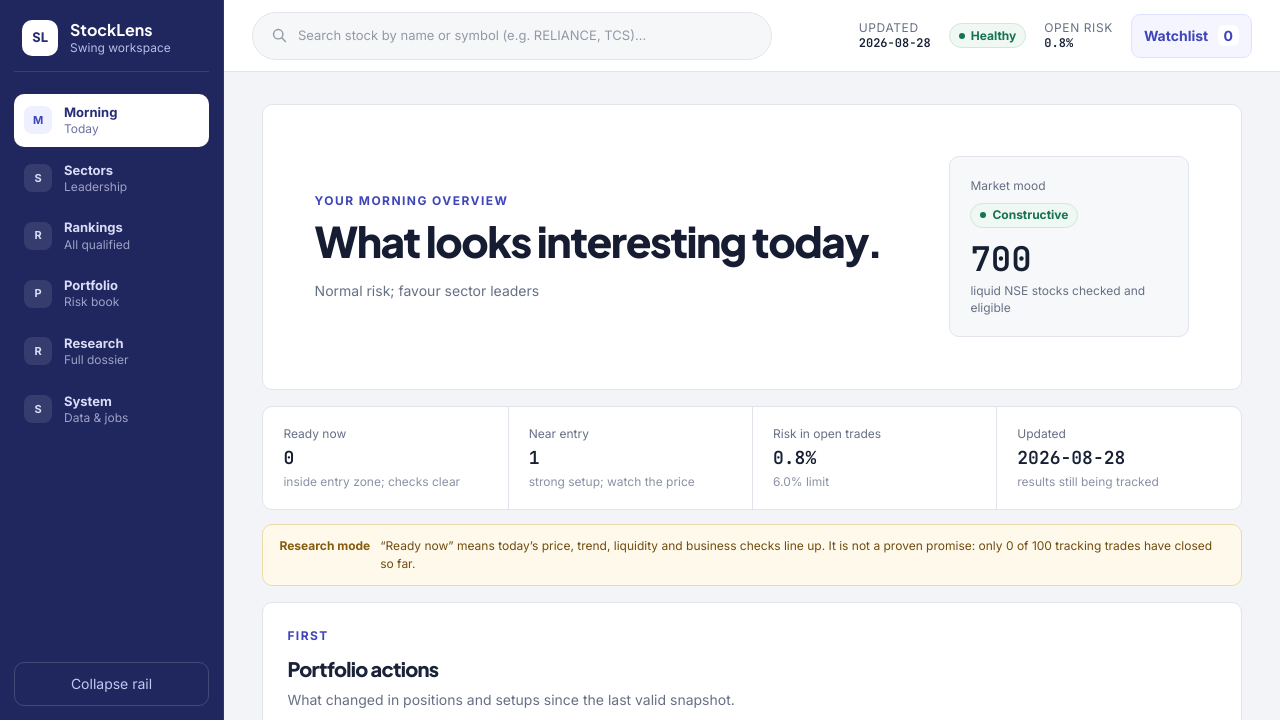
it: shows the automatic historical truth ledger in System
expect the heading "What looks interesting today." is shown: met, box [315, 218, 882, 264]
Step 1. Click the button "S System Data & jobs" → [112, 409], box [14, 383, 209, 435]
(page scrolled)
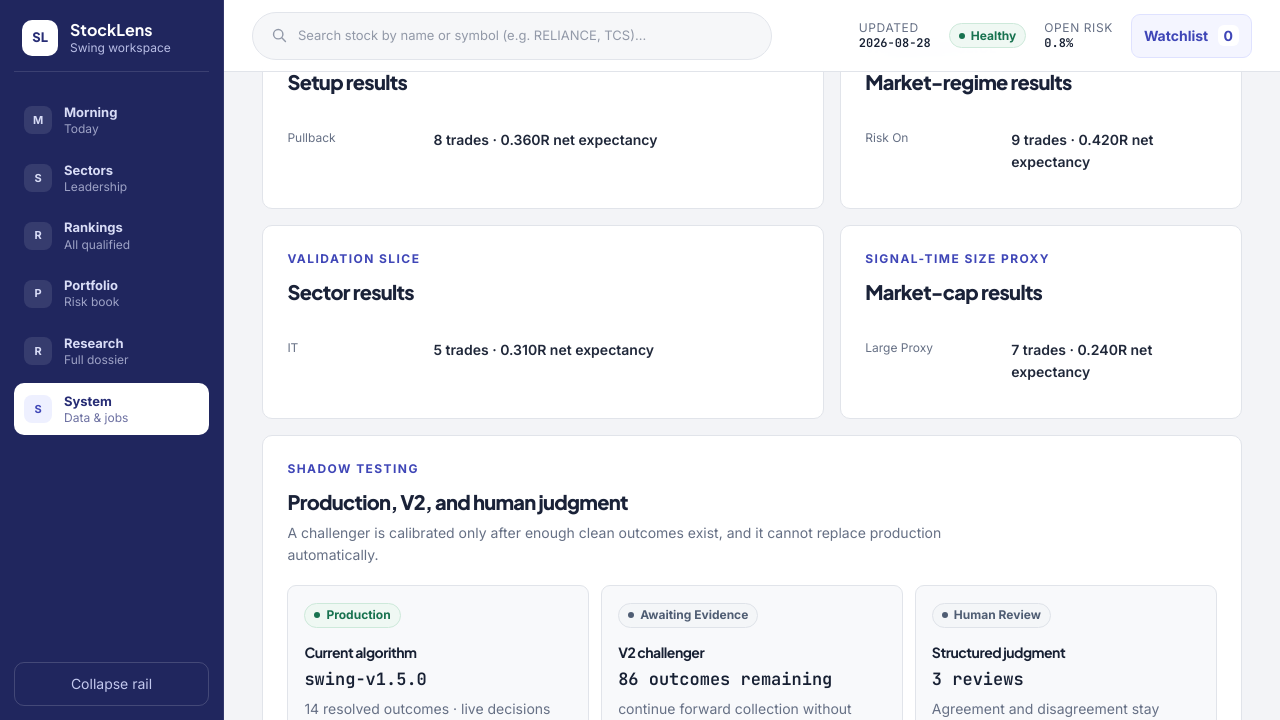
expect the heading "Production, V2, and human judgment" is shown: met, box [287, 489, 628, 514]
expect the text "86 outcomes remaining" is shown: met, box [618, 668, 832, 690]
expect the text "3 reviews" is shown: met, box [932, 668, 1024, 690]
